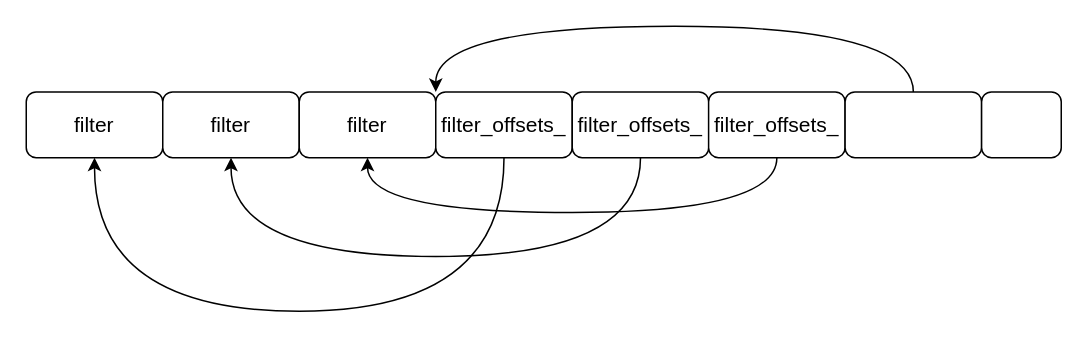
Image size: 1088x338. Some labels were removed from this diagram. Here are the shapes that lost their labels. From the top down, the centre of each, then its label:
At pixel 913 124: "size".
At pixel 1020 124: "BaseLg".
